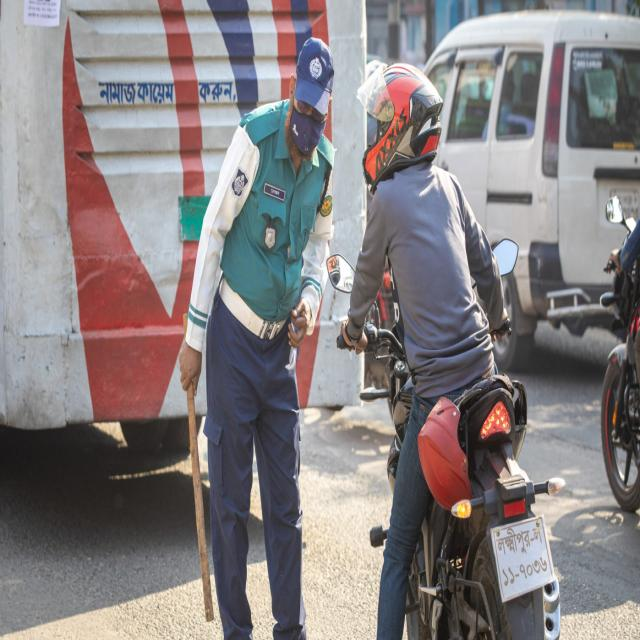Micro-Bus: (502, 1, 640, 359)
Motorbike: (323, 242, 572, 640)
traffic-police: (180, 27, 354, 640)
